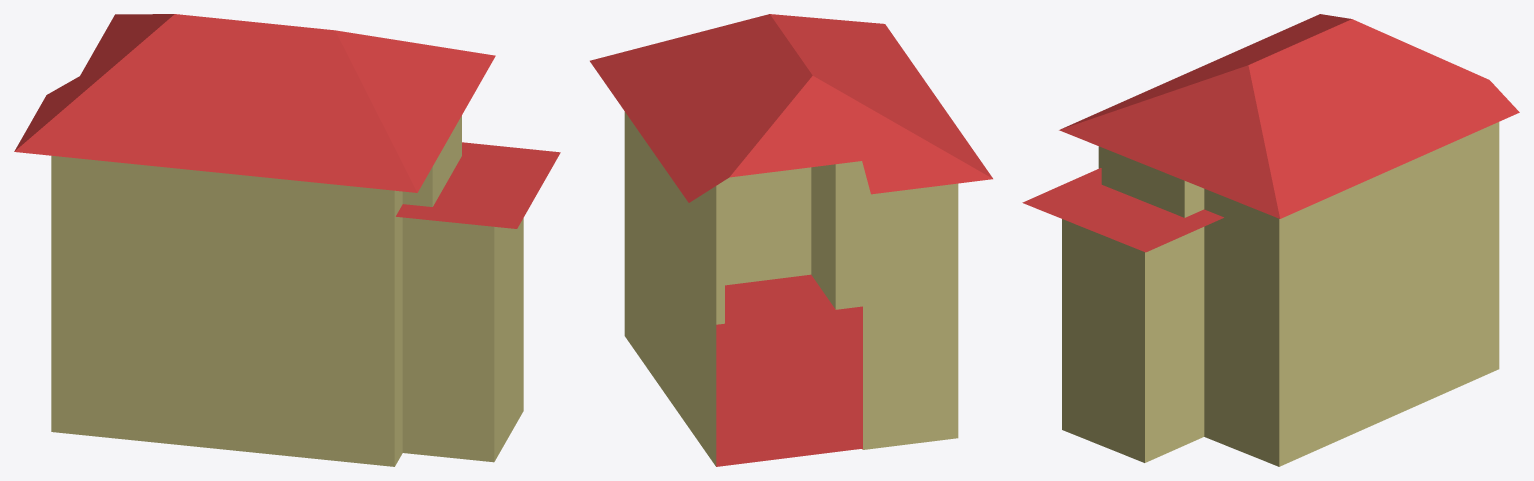
3 views of the same model, side by side, from view 1: azimuth 30°, elevation 25°; view 2: azimuth 150°, elevation 25°; view 3: azimuth 270°, elevation 25° (orthographic). The views are drawn at different scales.
Parts seen in each view (by area): view 1: group_5, group_3, group_9, group_7, group_8; view 2: group_5, group_3, group_6, group_9, group_10, group_4; view 3: group_5, group_3, group_9, group_7, group_8, group_4.
Part boxes in pixels (x1,y1,x2,y2): group_5: (51, 115, 461, 466); group_3: (14, 14, 495, 192); group_9: (432, 218, 523, 462); group_7: (396, 142, 560, 228); group_8: (397, 142, 559, 228); group_5: (624, 112, 958, 466); group_3: (590, 14, 992, 202); group_6: (716, 298, 862, 466); group_9: (725, 165, 827, 297); group_10: (725, 274, 827, 310); group_4: (626, 57, 944, 202); group_5: (1098, 122, 1499, 466); group_3: (1059, 14, 1519, 218); group_9: (1062, 219, 1184, 462); group_7: (1022, 168, 1223, 252); group_8: (1023, 168, 1222, 251); group_4: (1306, 91, 1517, 179).
Size of the model in its own units: 17.22 by 17.66 by 13.28.
